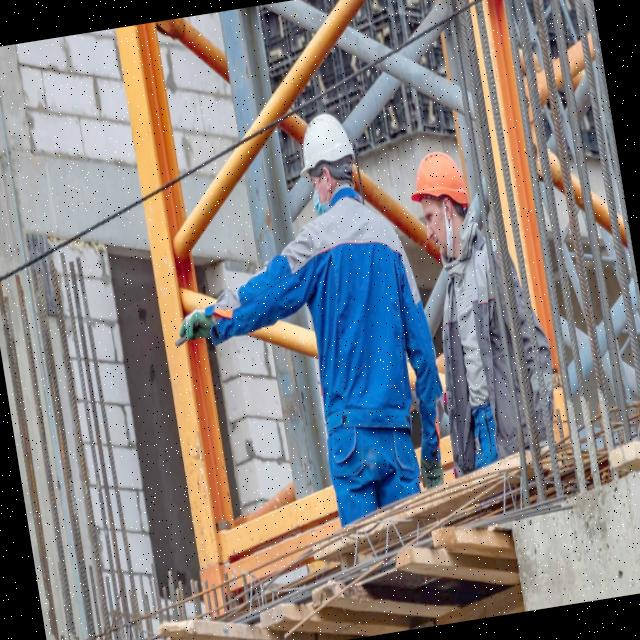Helmet: (293, 111, 359, 180), (405, 148, 470, 215)
NoJacket: (302, 205, 425, 458), (437, 253, 530, 455)
